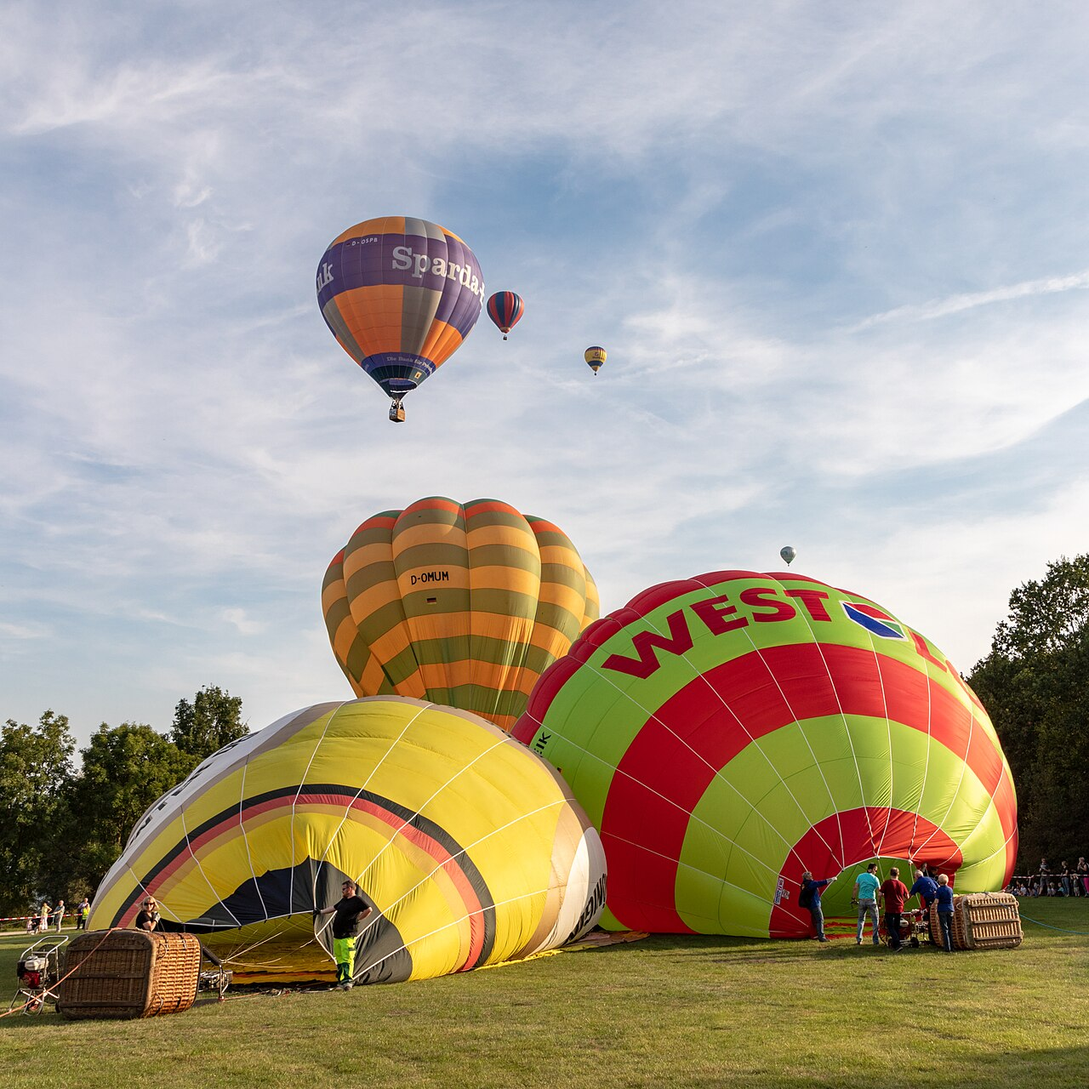balloon: (510, 570, 1019, 935), (86, 678, 609, 944), (318, 487, 600, 724), (314, 193, 484, 431), (485, 287, 525, 355), (582, 352, 609, 387), (778, 543, 798, 566)
